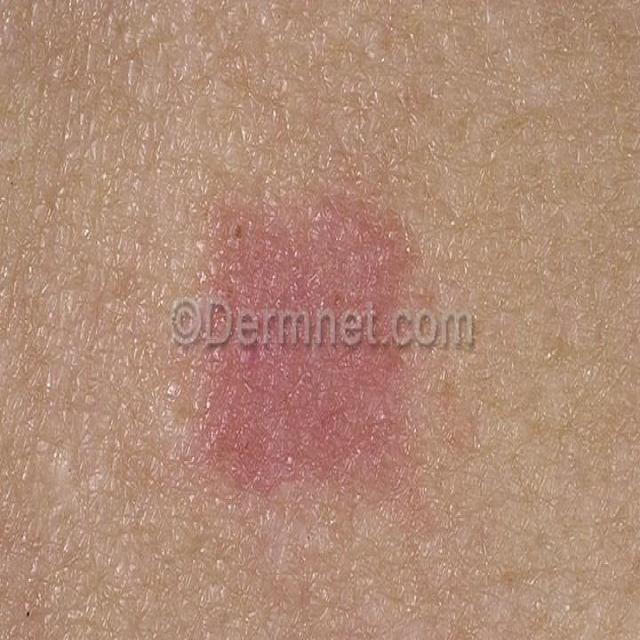Eczema: (169, 179, 420, 518)
